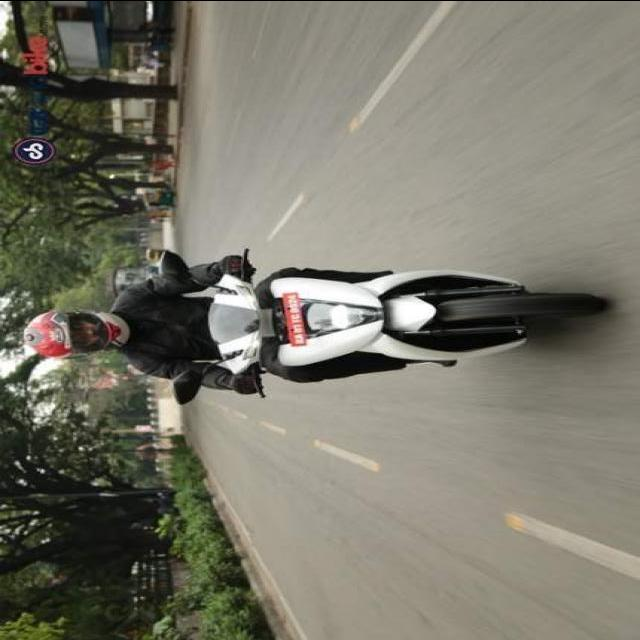motorcycle: (17, 241, 620, 408)
